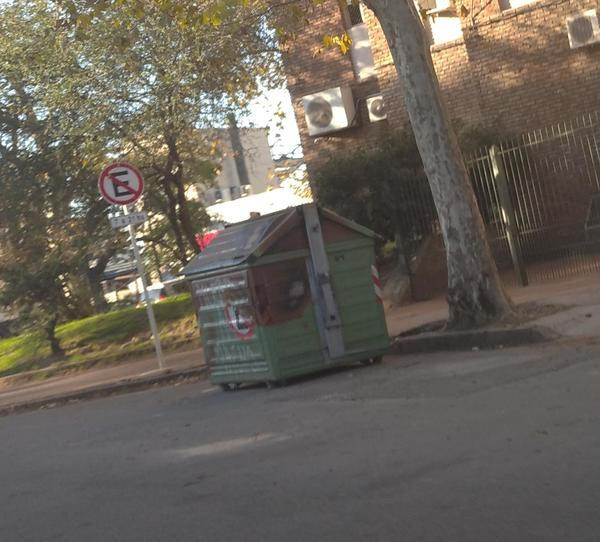Trash: (184, 202, 389, 389)
